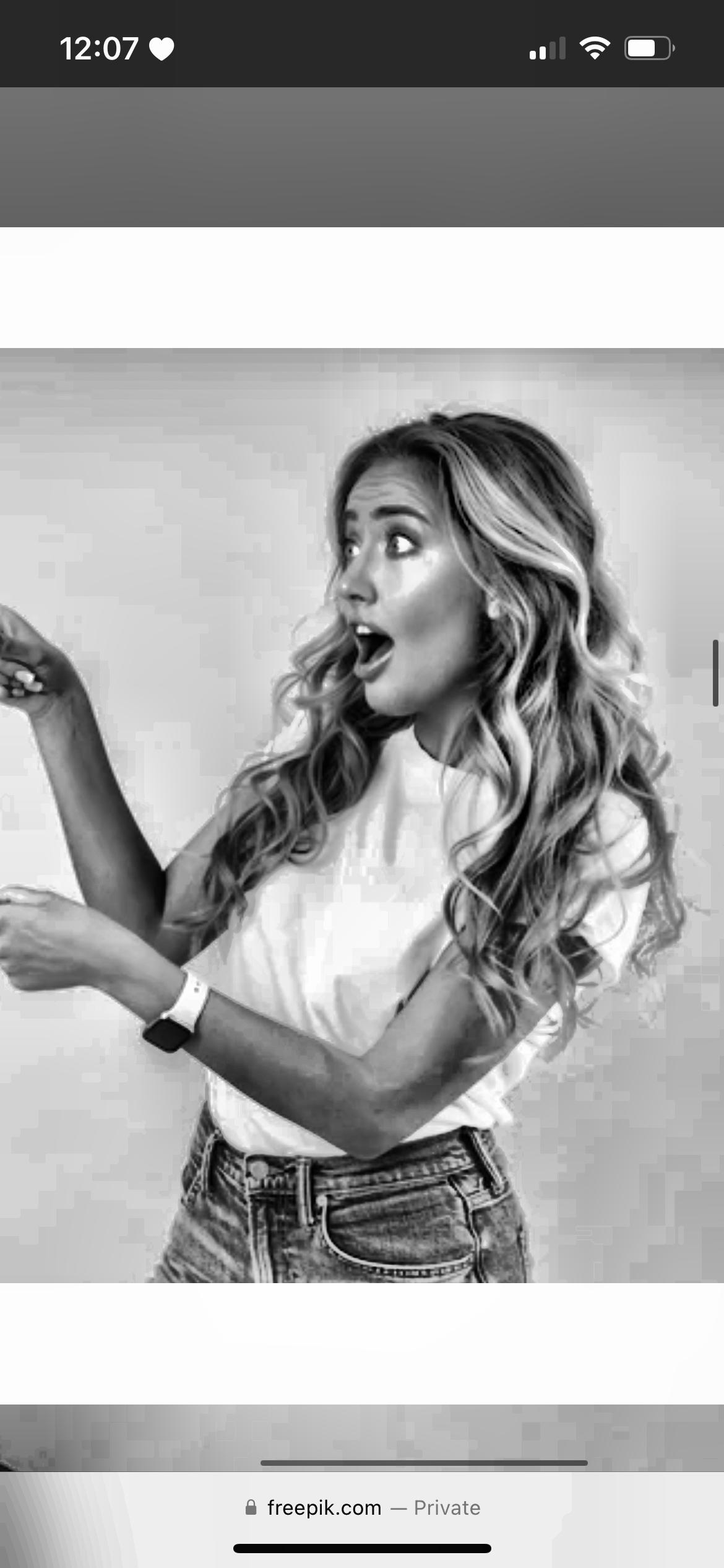surprised: (295, 438, 580, 768)
